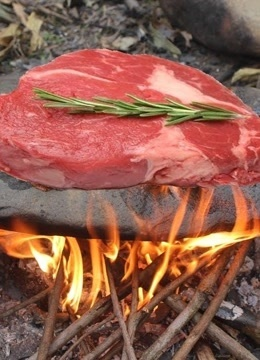fire: (108, 185, 251, 302)
